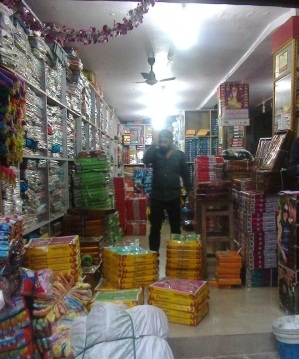Age_30_40: (156, 127, 175, 151)
E_Indian: (156, 127, 175, 151)
Emotion_Neutral: (156, 127, 175, 151)
G_Male: (156, 127, 175, 151)
